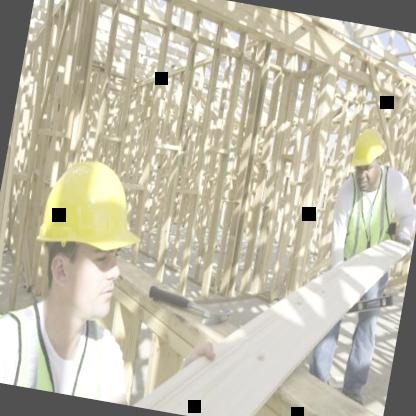helmet: (15, 130, 163, 348), (340, 124, 394, 191)
